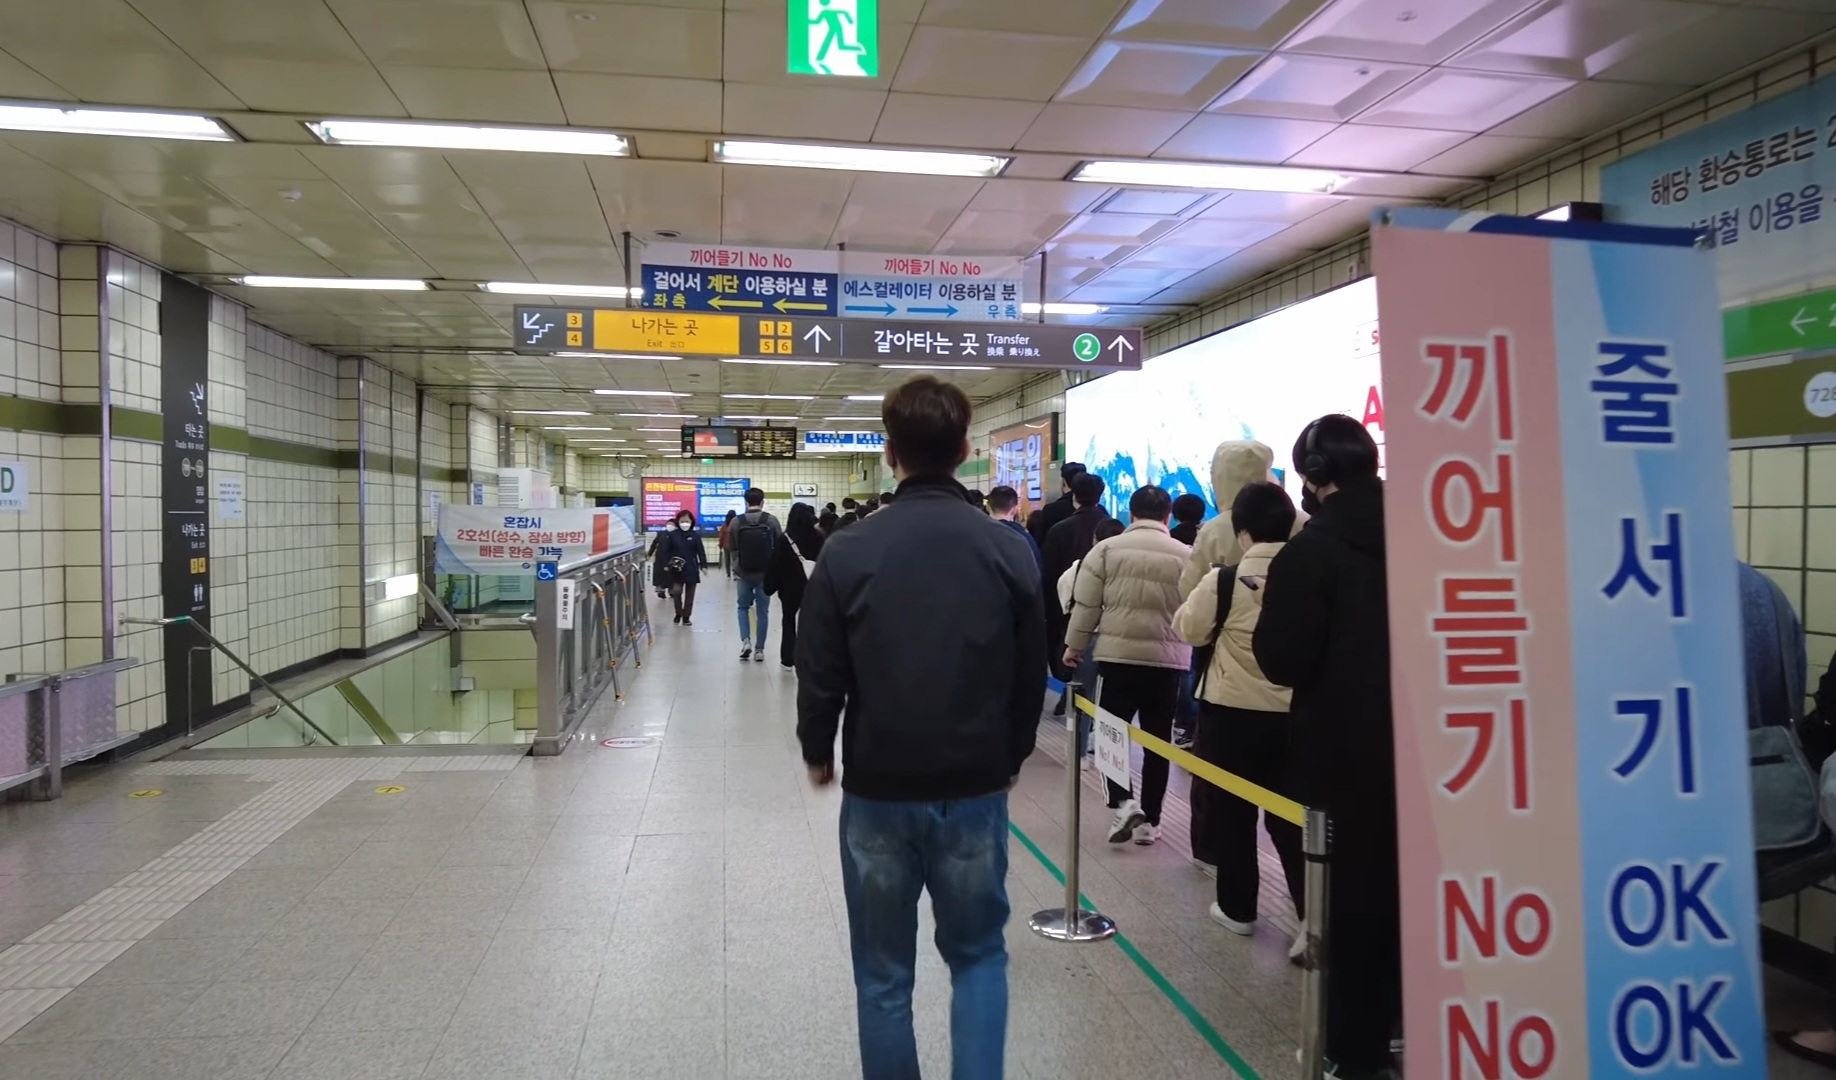signBoard: (507, 298, 1153, 375)
